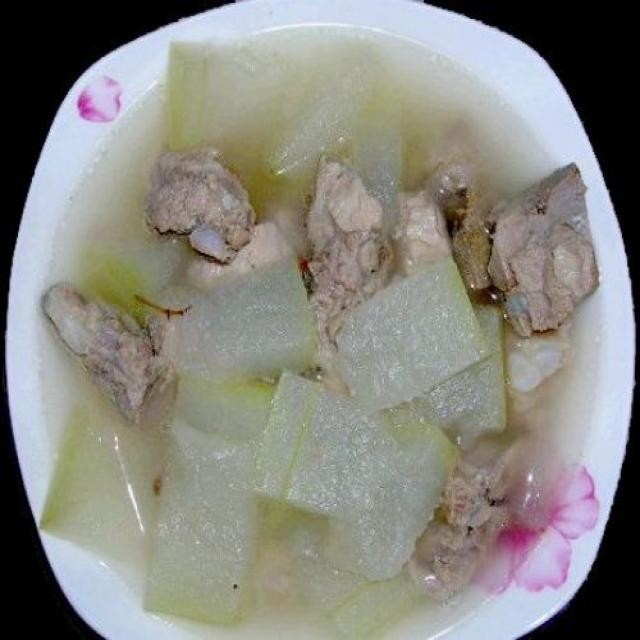汤锅炖物: (40, 42, 609, 626)
